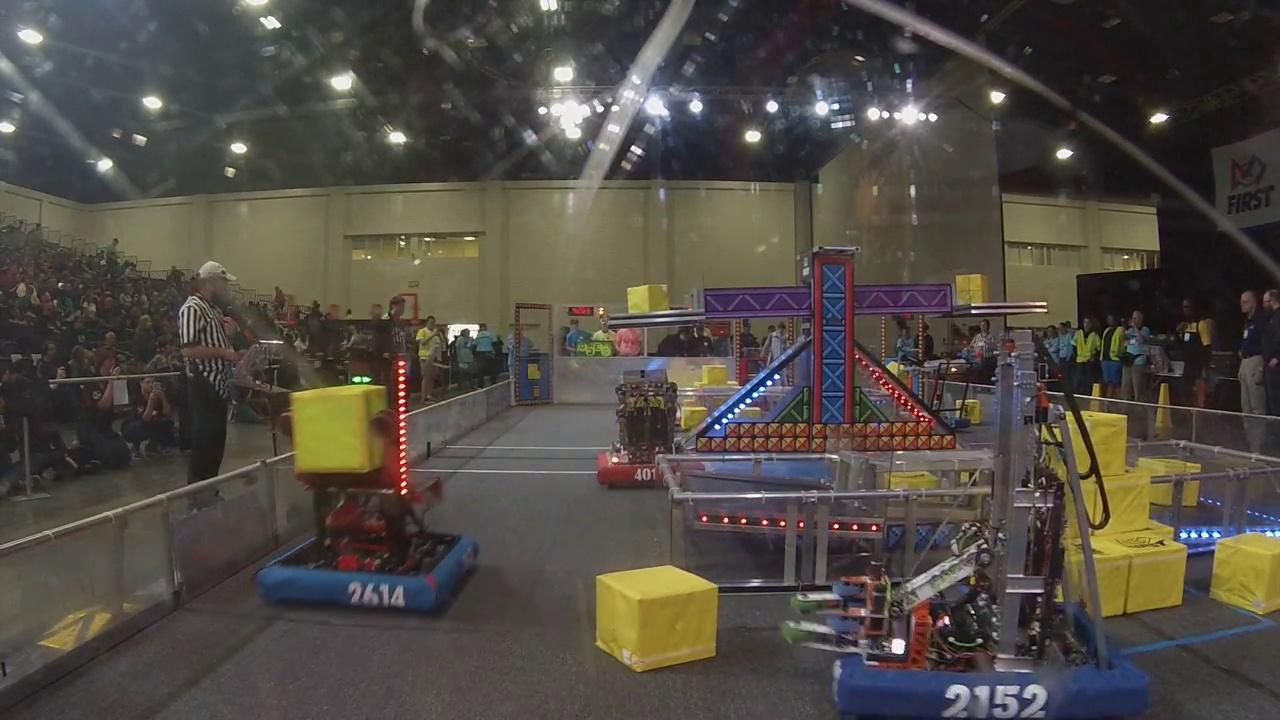robot: (803, 327, 1156, 720), (257, 340, 483, 616), (594, 380, 705, 490)
